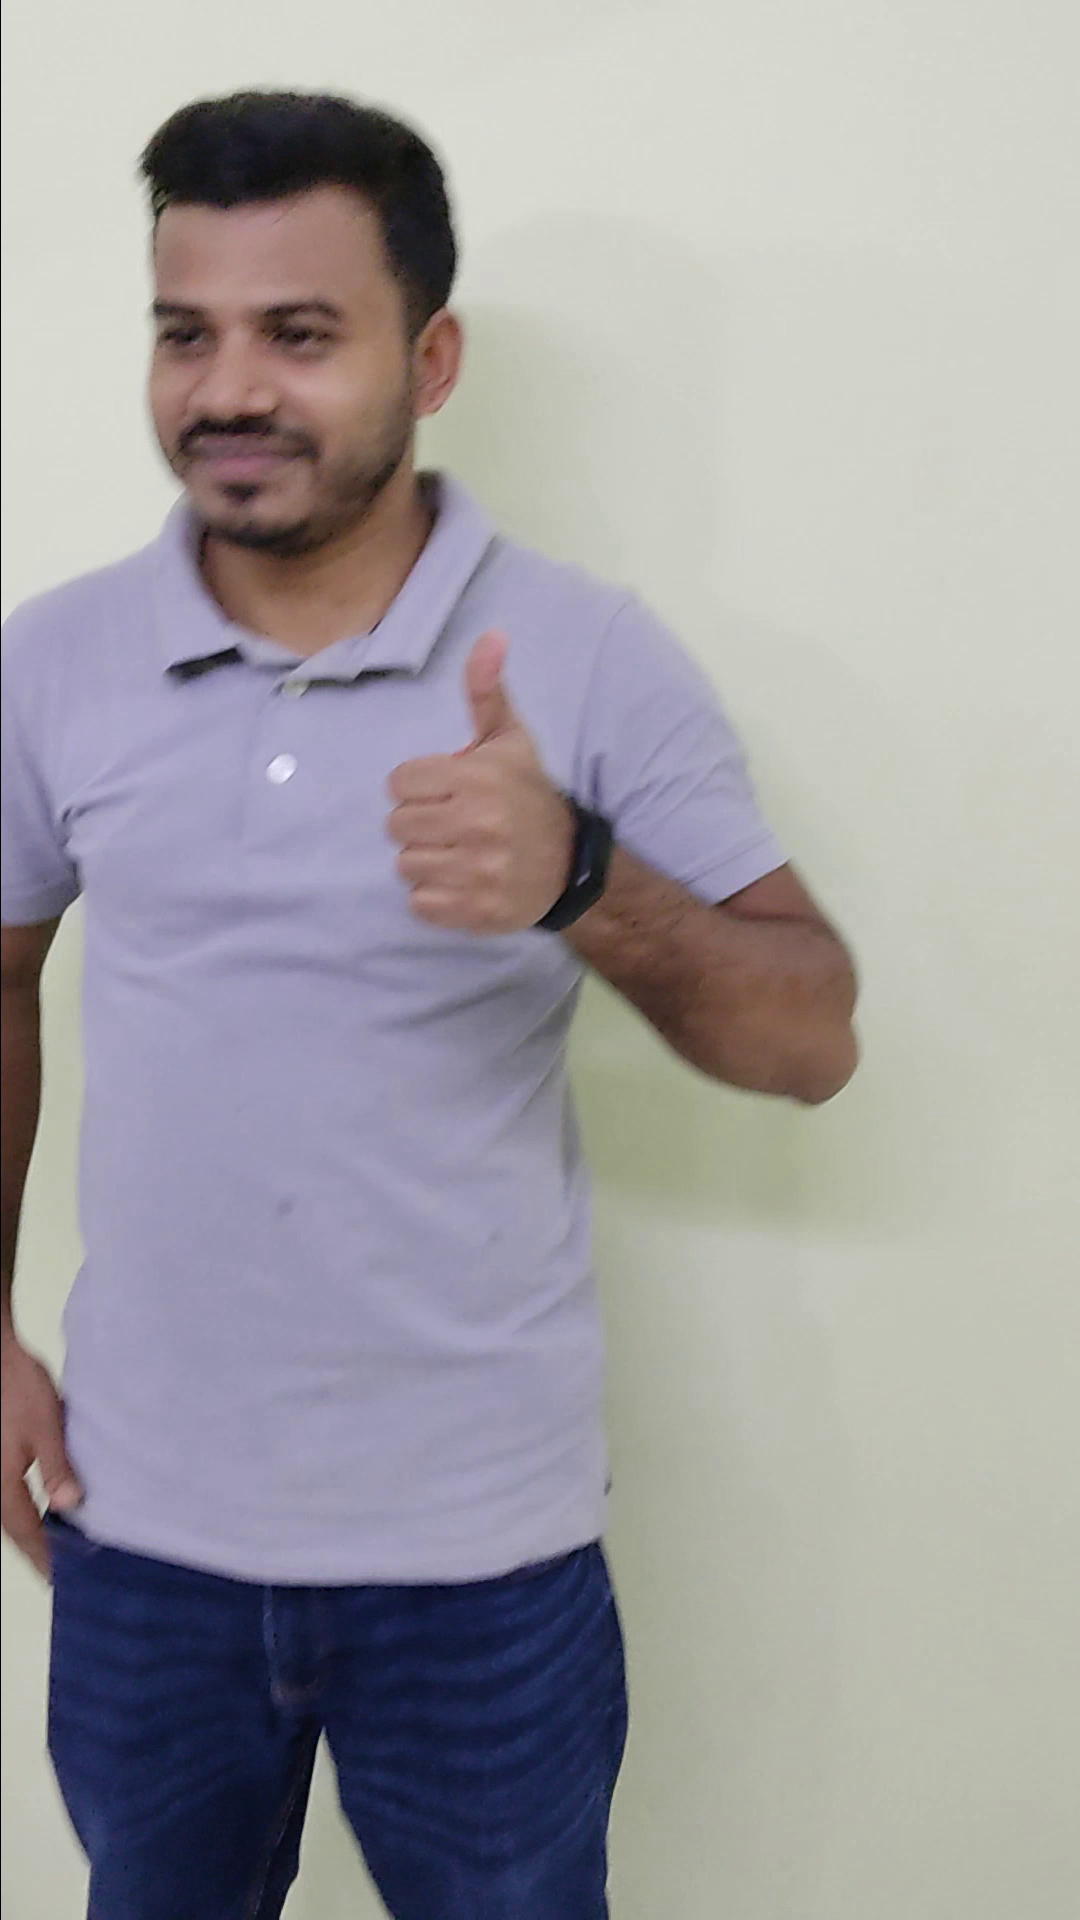Like: (369, 622, 603, 960)
None: (4, 1338, 96, 1586)
